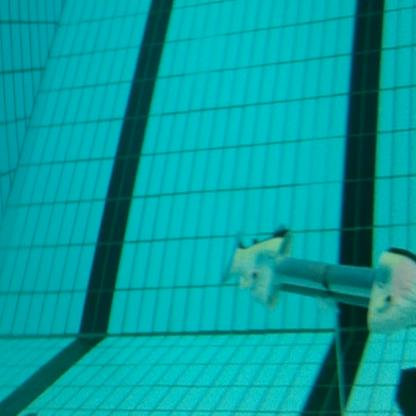tail: (222, 224, 292, 309)
